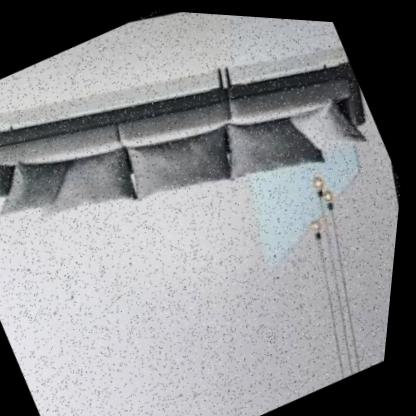Sofa: (0, 0, 405, 341)
